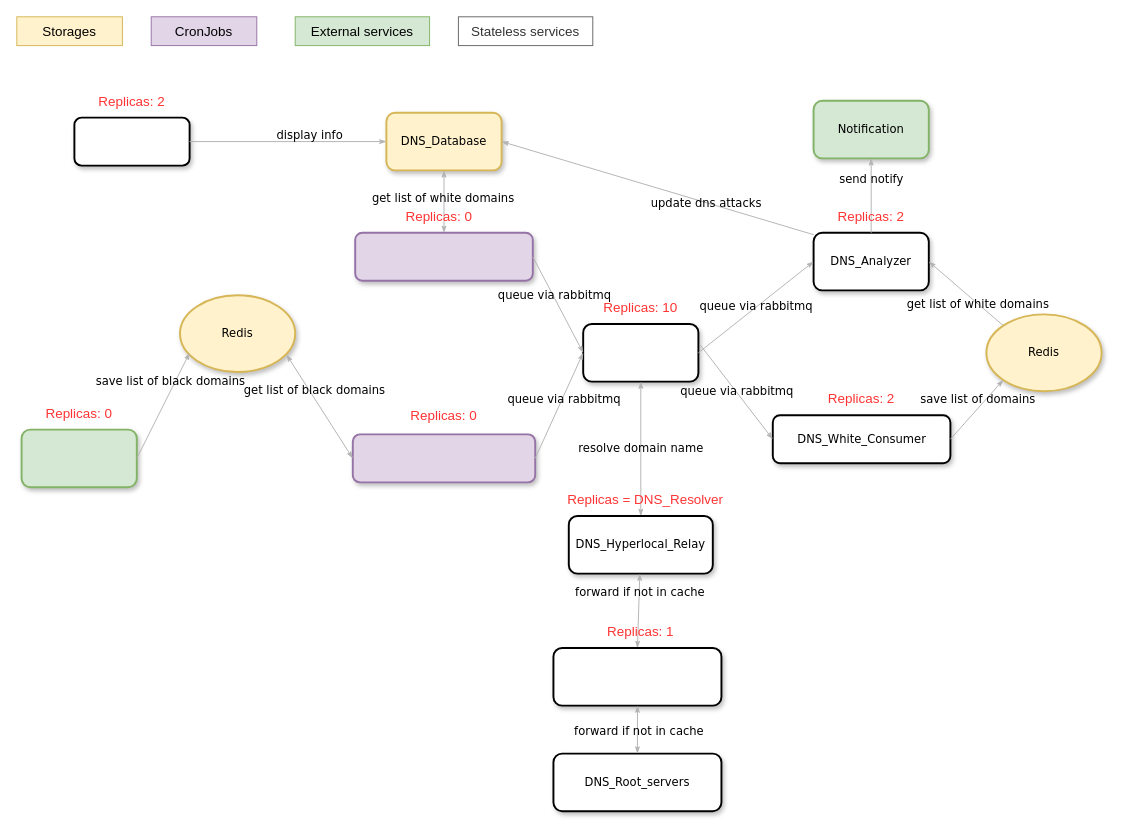
This 1125x835 diagram has some shape labels left out. Each missing label, with the centre of its shape:
"DNS_Black_Producer_cron" belongs at (444,459).
"DNS_Hyperlocal_Forwarder" belongs at (638,678).
"DNS_Resolver" belongs at (641,354).
"DNS_Site" belongs at (132,142).
"DNS_White_Producer_cron" belongs at (444,258).
"Vigruzki_cron" belongs at (79,459).
